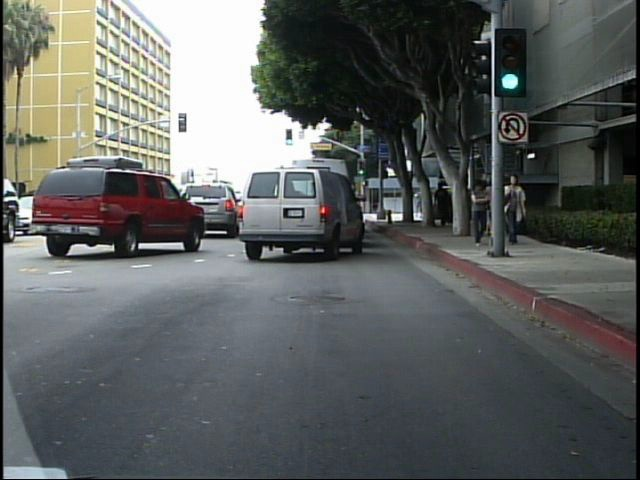person: (503, 170, 529, 253), (483, 174, 506, 250), (504, 172, 526, 244), (470, 174, 490, 244), (433, 175, 455, 230), (412, 185, 424, 217)
